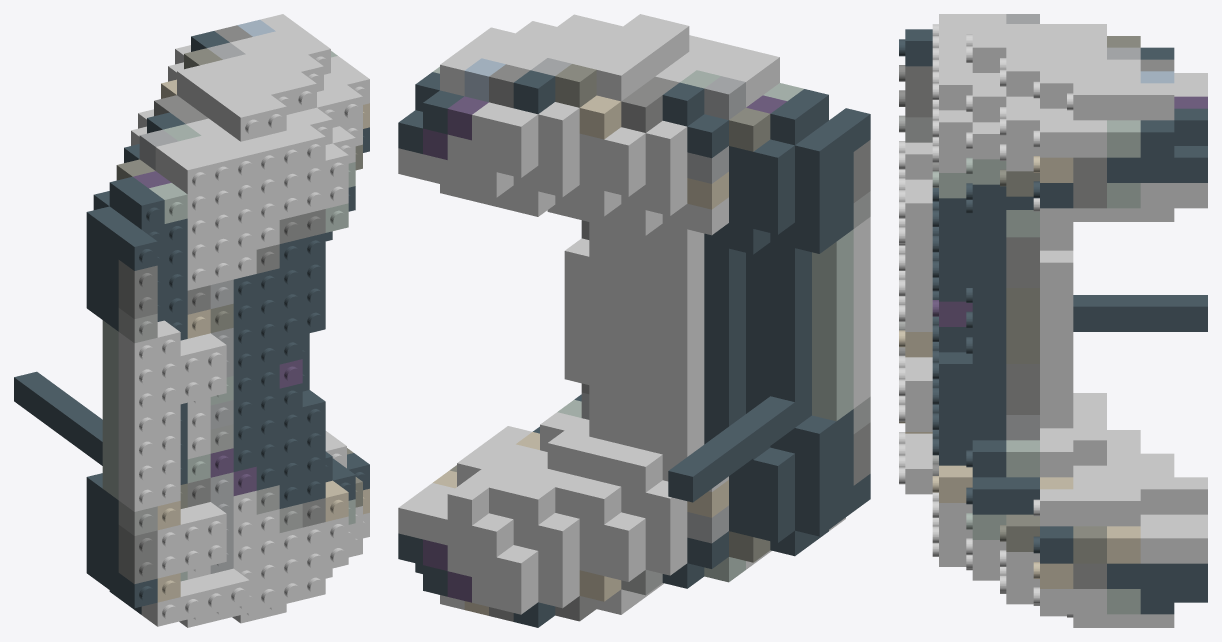
File: full.glb
The picture shows the model from 3 angles, left to right: view 1: azimuth 30°, elevation 25°; view 2: azimuth 150°, elevation 25°; view 3: azimuth 270°, elevation 25°; orthographic projection. The views are drawn at different scales.
Parts seen in each view (by area): view 1: world; view 2: world; view 3: world.
Boxes of the visible parts, box(x1,y1,x2,y2) form: world: box(14, 14, 369, 627); world: box(398, 14, 870, 627); world: box(899, 14, 1207, 627).
Bounding box in the file's own units: 104 × 168 × 88.2.
